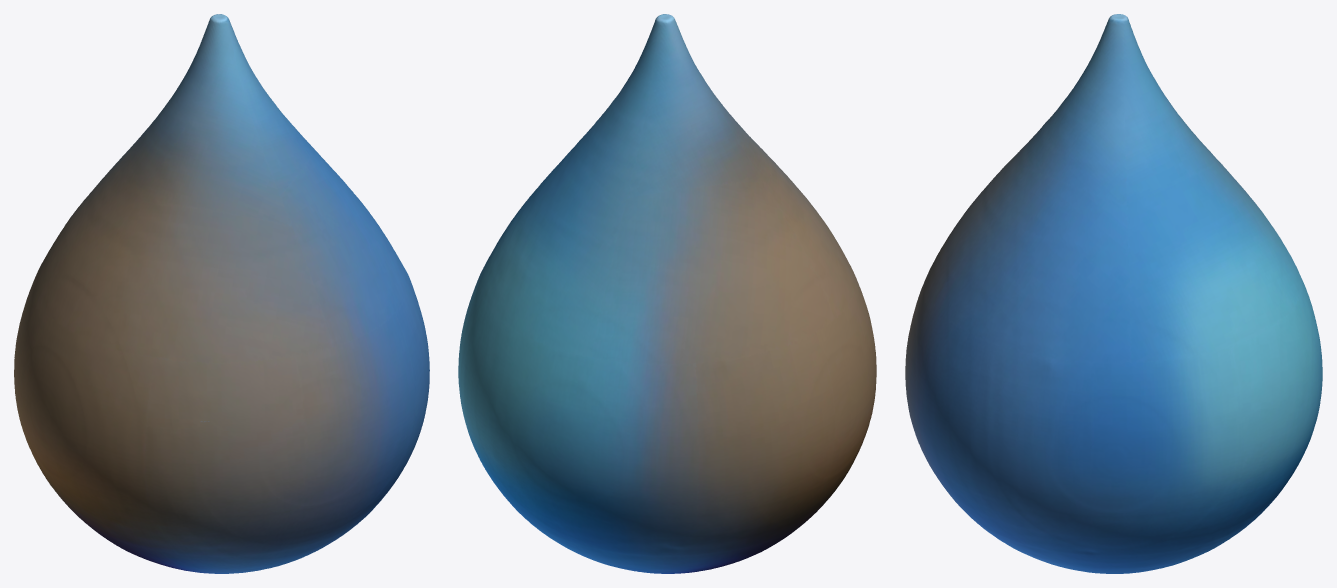
File: droplet_compressed.glb
3 renders of one model, left to right at view 1: azimuth 30°, elevation 25°; view 2: azimuth 150°, elevation 25°; view 3: azimuth 270°, elevation 25°, orthographic.
Parts seen in each view (by area): view 1: tripo_node_46470c26-774a-4c09-a720-318d14bc97ed; view 2: tripo_node_46470c26-774a-4c09-a720-318d14bc97ed; view 3: tripo_node_46470c26-774a-4c09-a720-318d14bc97ed.
Part boxes in pixels (x1,y1,x2,y2): tripo_node_46470c26-774a-4c09-a720-318d14bc97ed: (14,14,429,573); tripo_node_46470c26-774a-4c09-a720-318d14bc97ed: (458,14,876,573); tripo_node_46470c26-774a-4c09-a720-318d14bc97ed: (905,14,1322,573).
Size of the model in its own units: 0.6697 by 0.9486 by 0.6701.
1 material, 1 textured.
